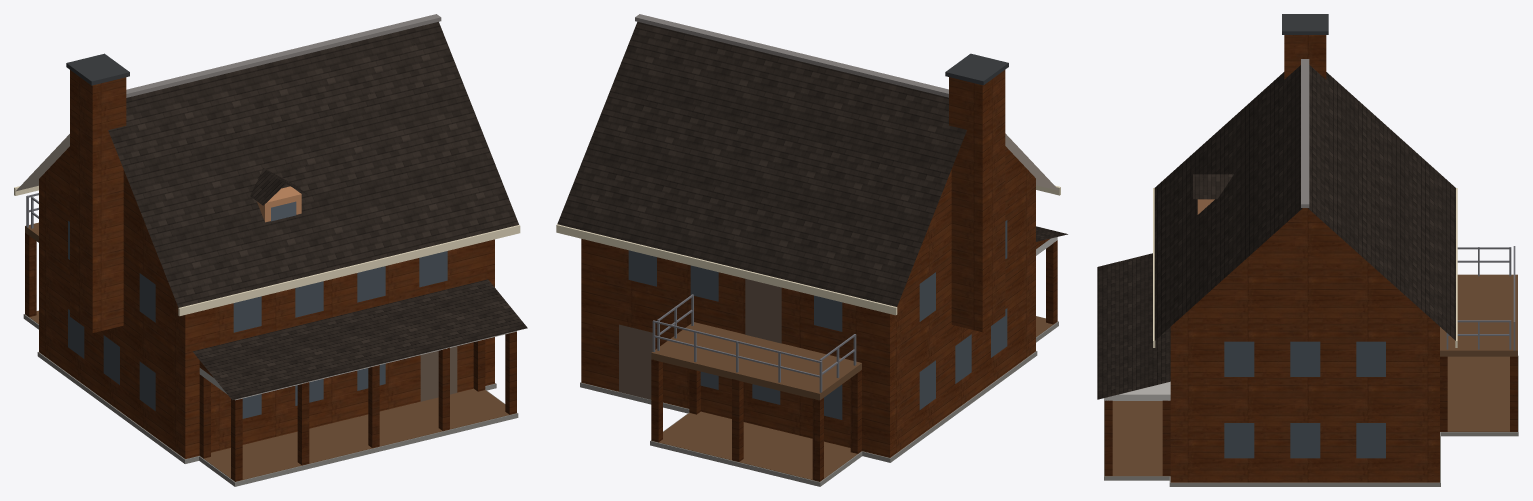
Rendered from rw-log-house.towns-v1.lod1.glb.
3 views of the same model, side by side, from view 1: azimuth 30°, elevation 25°; view 2: azimuth 150°, elevation 25°; view 3: azimuth 270°, elevation 25° (orthographic). The views are drawn at different scales.
Parts seen in each view (by area): view 1: rw-log-house; view 2: rw-log-house; view 3: rw-log-house.
Boxes of the visible parts, left/top/right/bottom form: rw-log-house: left=14, top=14, right=527, bottom=486; rw-log-house: left=556, top=14, right=1067, bottom=486; rw-log-house: left=1097, top=14, right=1518, bottom=486.
Bounding box in the file's own units: 12.78 × 11.74 × 14.08.
Materials: 3 (2 with a texture image).
